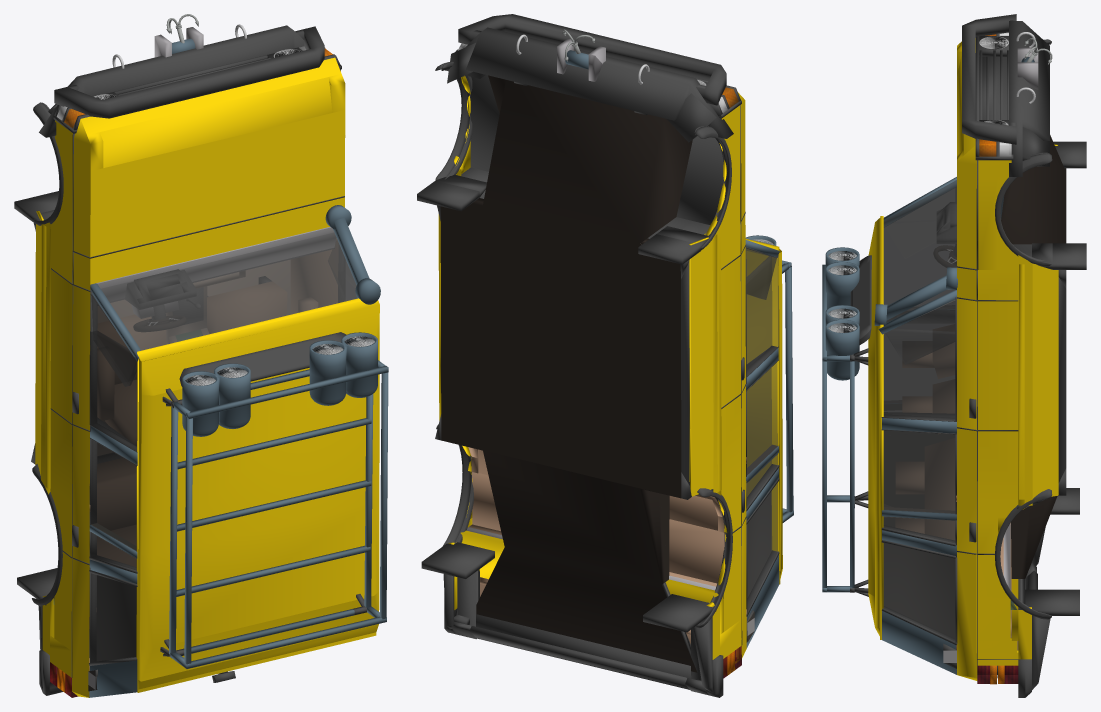
Rendered from RangeRover.obj.
The picture shows the model from 3 angles, left to right: view 1: azimuth 30°, elevation 25°; view 2: azimuth 150°, elevation 25°; view 3: azimuth 270°, elevation 25°; orthographic projection. The views are drawn at different scales.
Parts seen in each view (by area): view 1: Wedge124.002; view 2: Wedge124.002; view 3: Wedge124.002.
Boxes of the visible parts, box(x1,y1,x2,y2) form: Wedge124.002: box(14, 14, 388, 697); Wedge124.002: box(417, 14, 793, 697); Wedge124.002: box(822, 14, 1086, 697).
Bounding box in the file's own units: 2.19 × 4.68 × 1.89.
37 materials, 37 textured.
